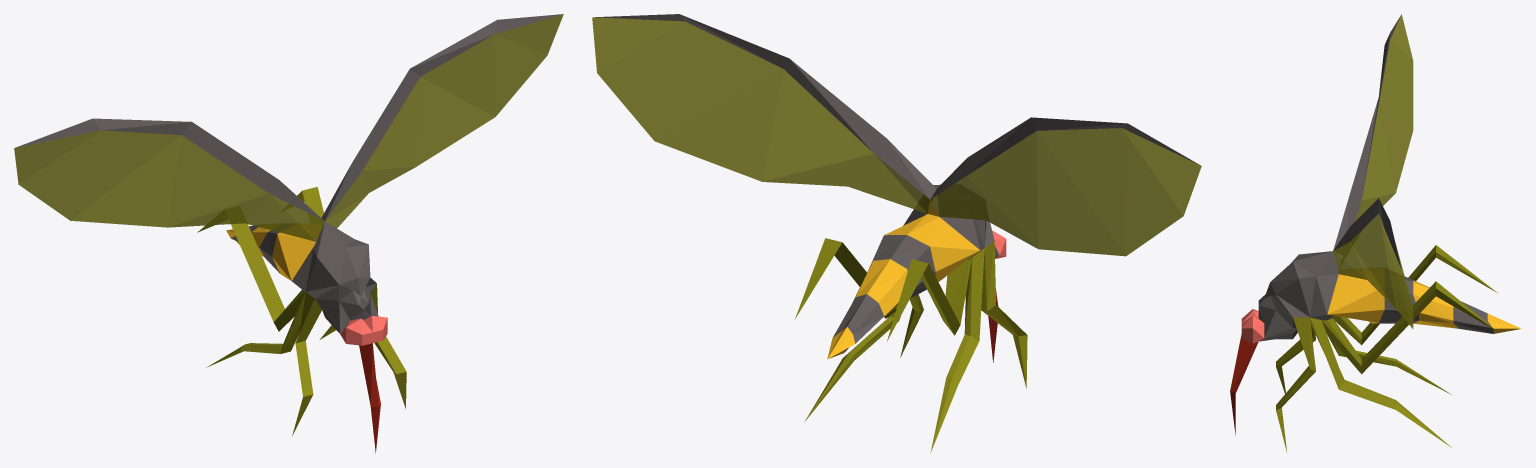
File: giant_mosquito.glb
3 renders of one model, left to right at view 1: azimuth 30°, elevation 25°; view 2: azimuth 150°, elevation 25°; view 3: azimuth 270°, elevation 25°, orthographic. The views are drawn at different scales.
Bounding box in the file's own units: 106 × 60 × 51.
2 materials, 2 textured.
